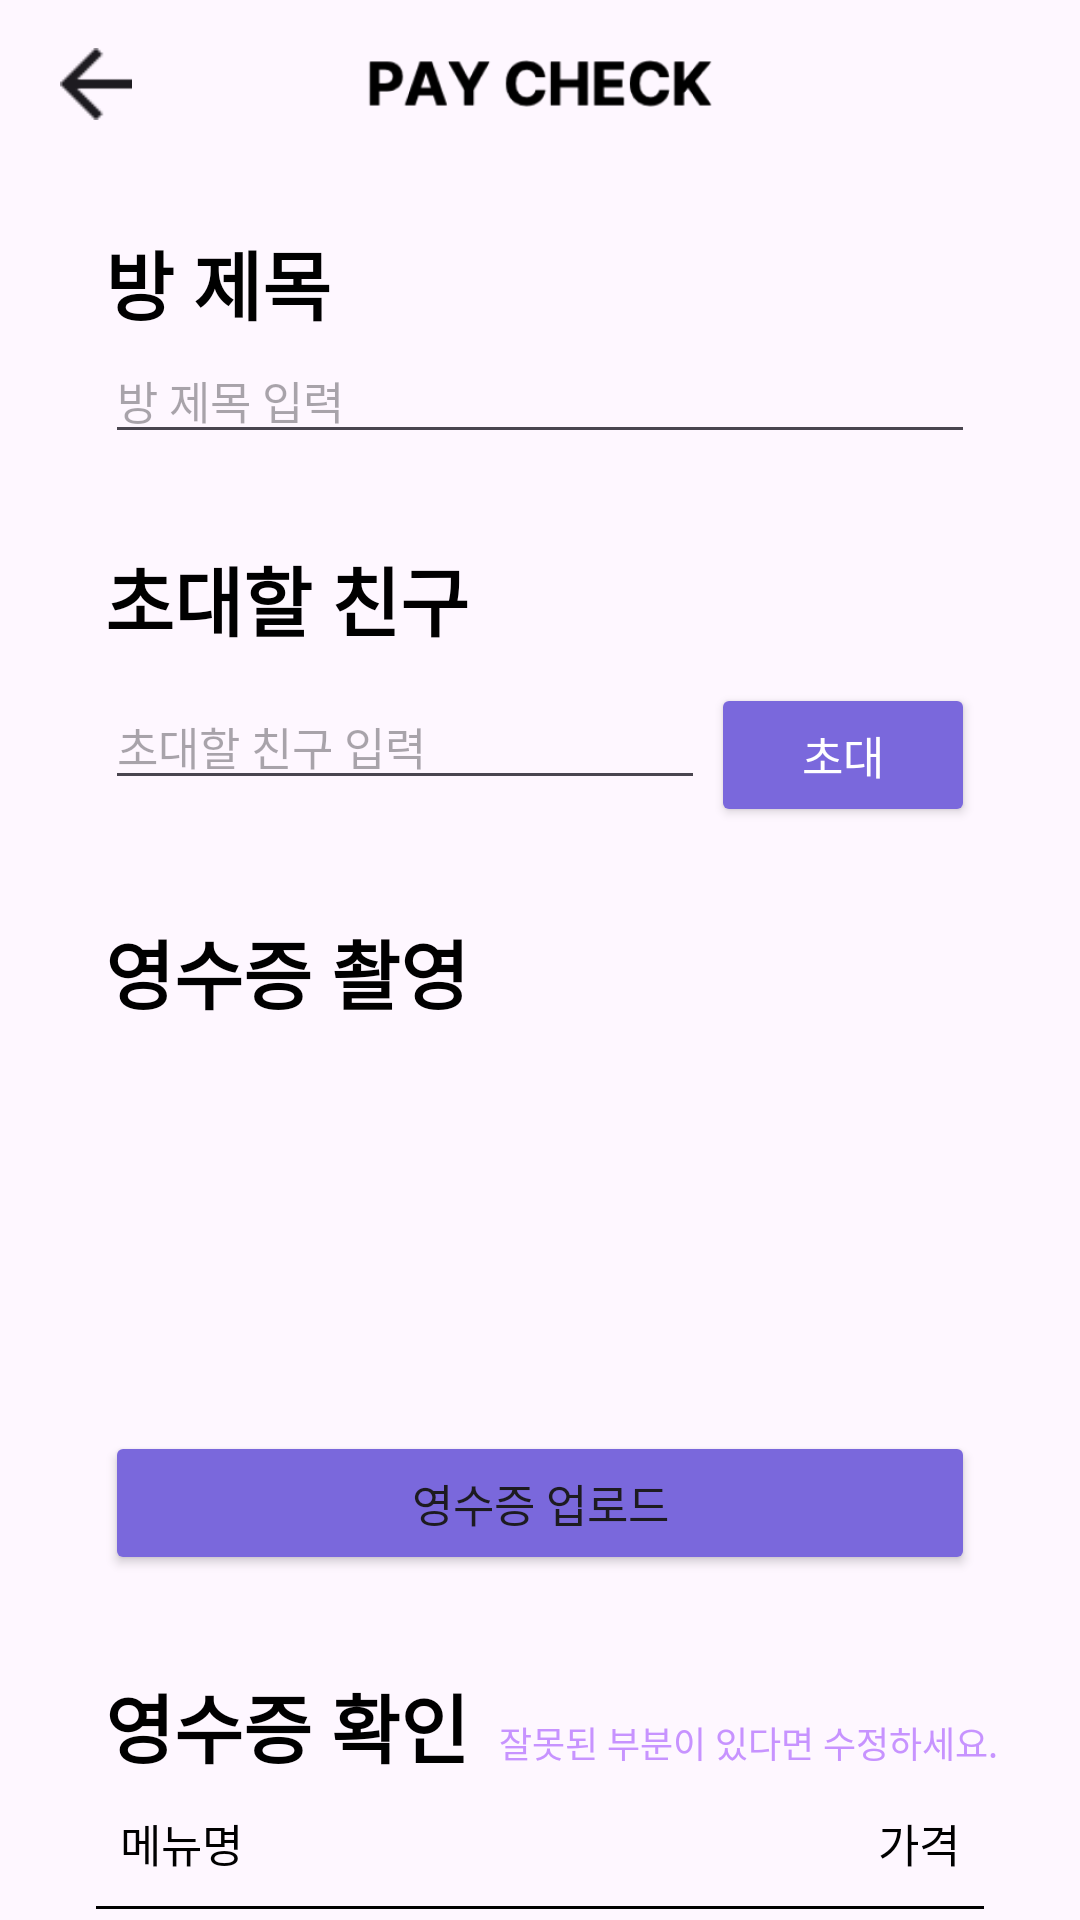

Icon bounding boxes for this 1080w x 1920h phone screenshot, format [x1,y1,x2,y2]:
back: [60,48,132,120]
